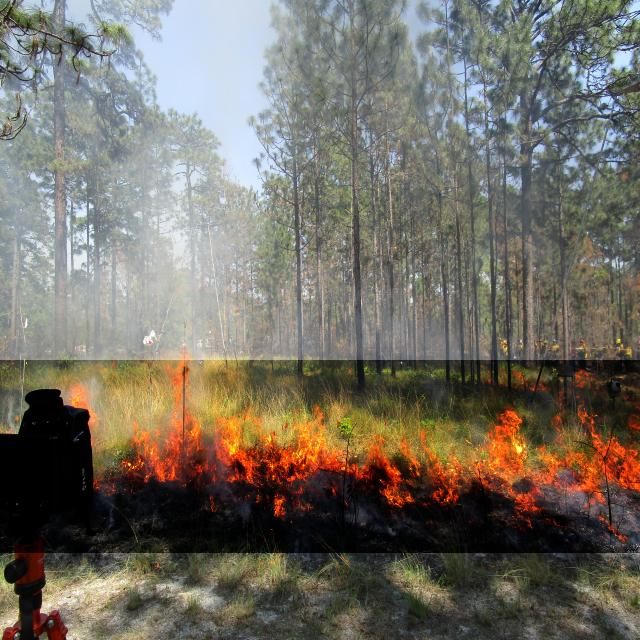Fire: (0, 360, 640, 553)
